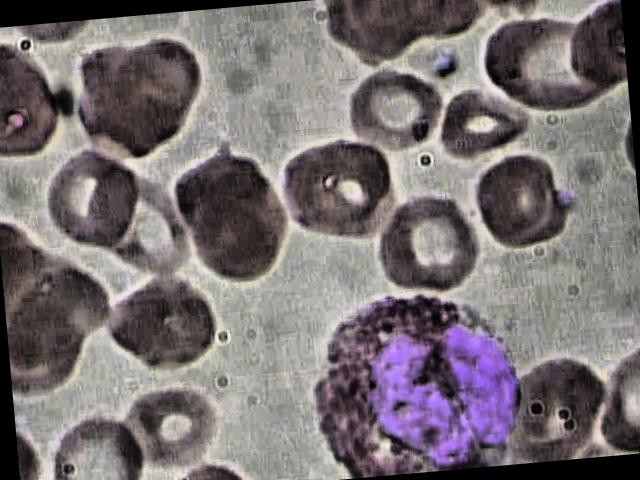Platelets: (428, 44, 463, 79)
RBC: (474, 6, 624, 122), (273, 126, 410, 248), (95, 264, 235, 380), (182, 163, 292, 290), (364, 184, 483, 300), (35, 142, 145, 255), (110, 376, 230, 476), (468, 146, 574, 255), (341, 52, 446, 161), (434, 80, 534, 163), (45, 410, 152, 480)
WBC: (294, 275, 550, 480)
